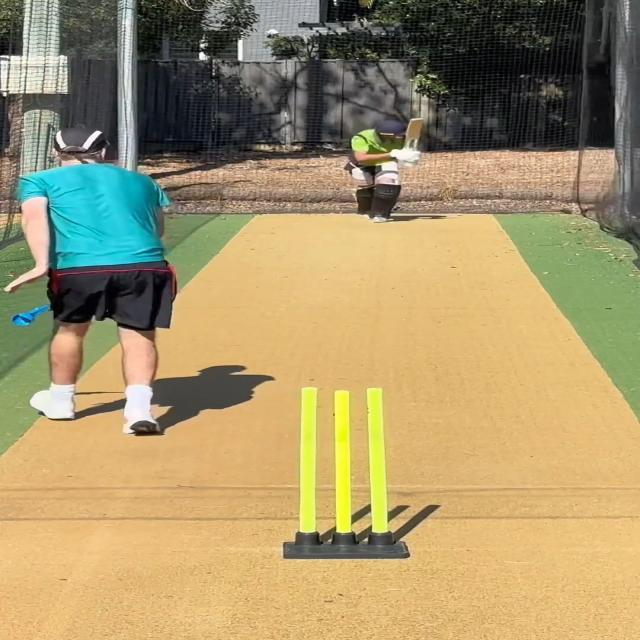stump: (283, 385, 410, 559)
